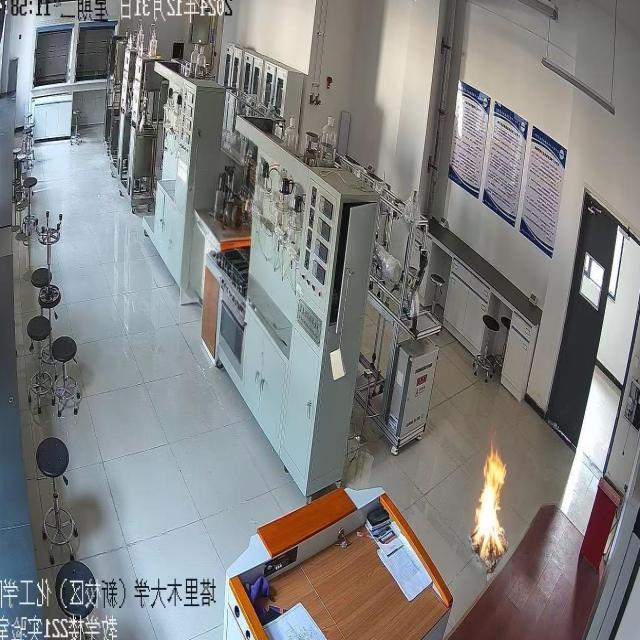smoke: (472, 442, 509, 564)
